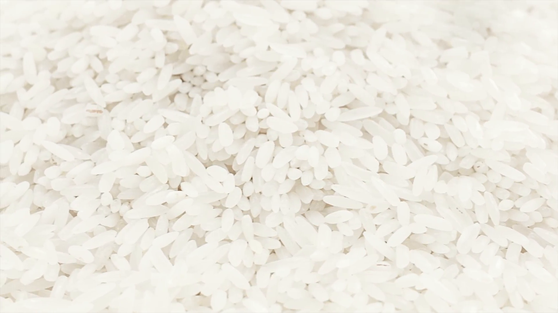rice: (66, 44, 438, 259)
